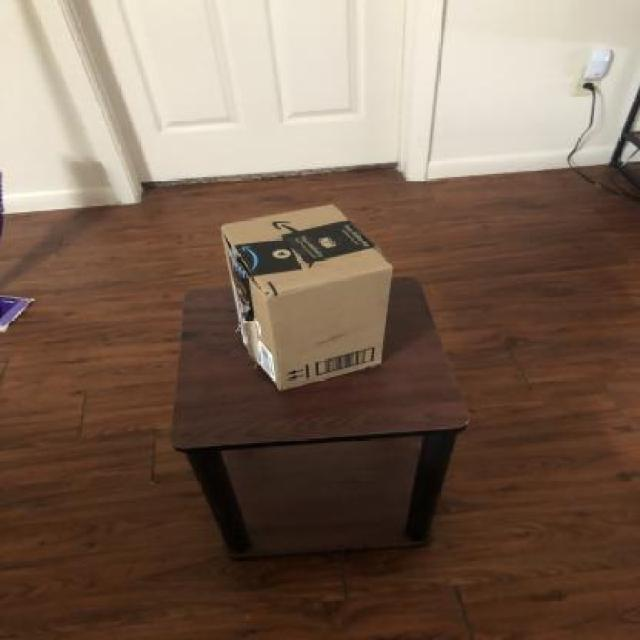cardboxes: (212, 202, 403, 395)
